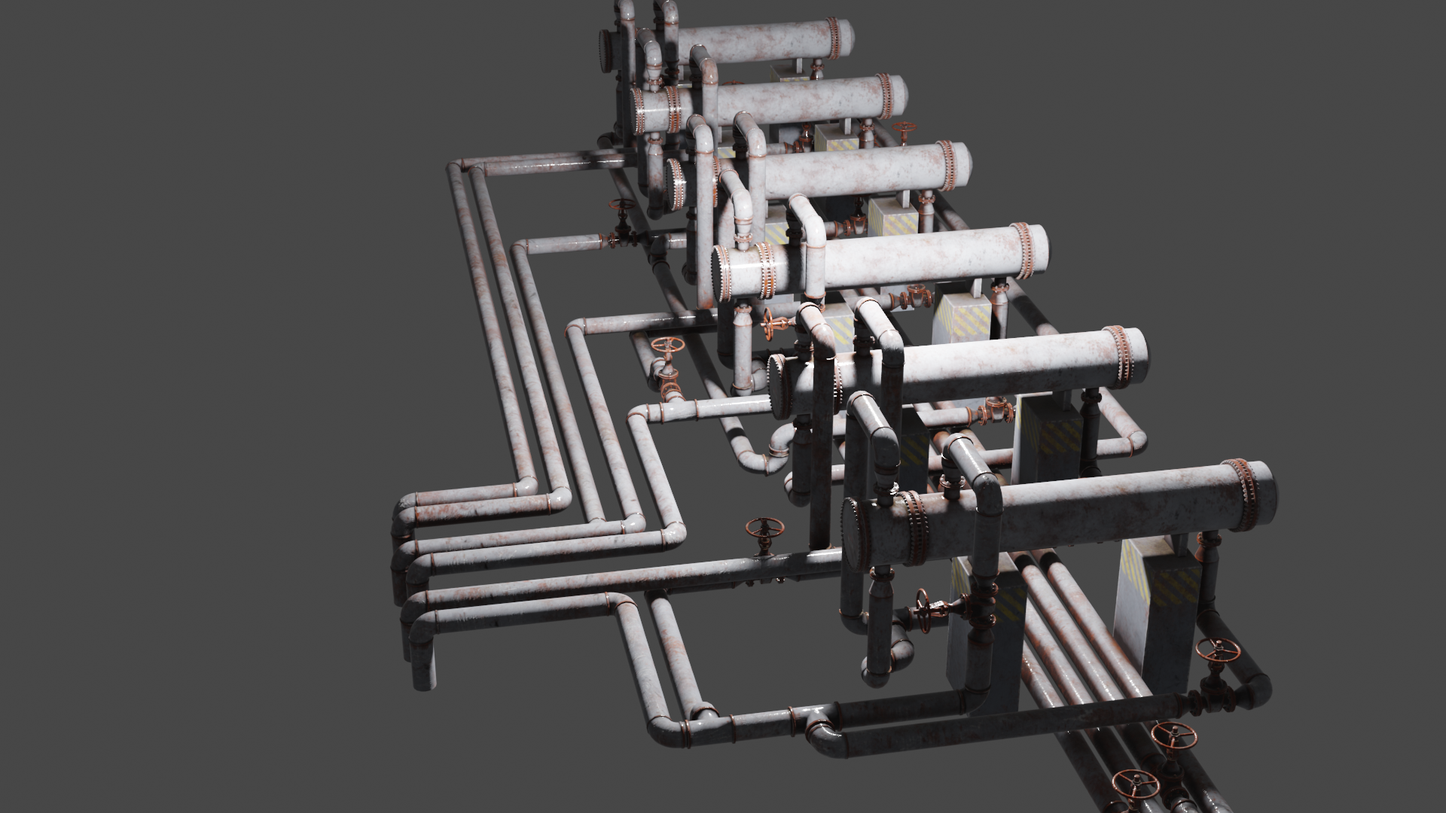HE_1: (602, 17, 858, 70)
HE_2: (629, 72, 913, 134)
HE_3: (659, 141, 971, 213)
HE_4: (713, 224, 1054, 298)
HE_5: (766, 325, 1149, 417)
HE_6: (836, 458, 1280, 568)
